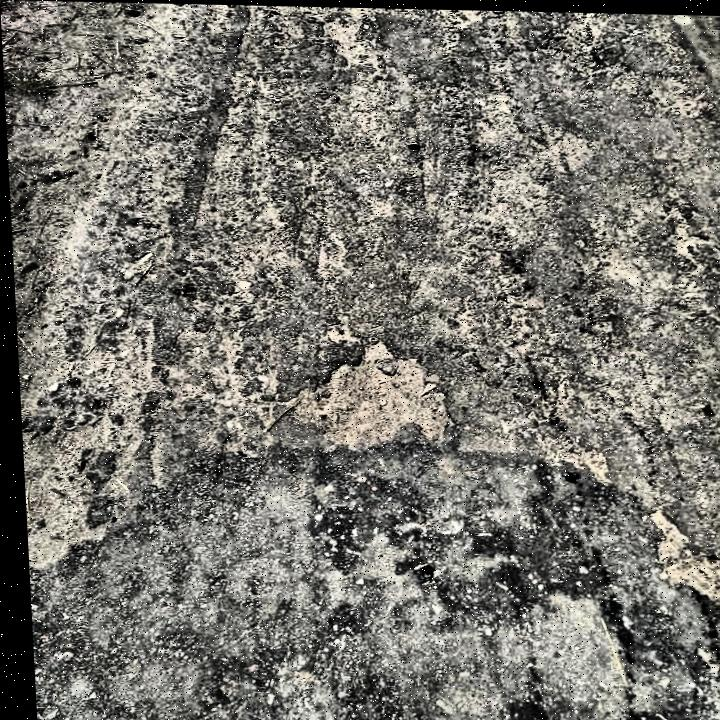pothole: (302, 331, 452, 450), (659, 551, 720, 602)
